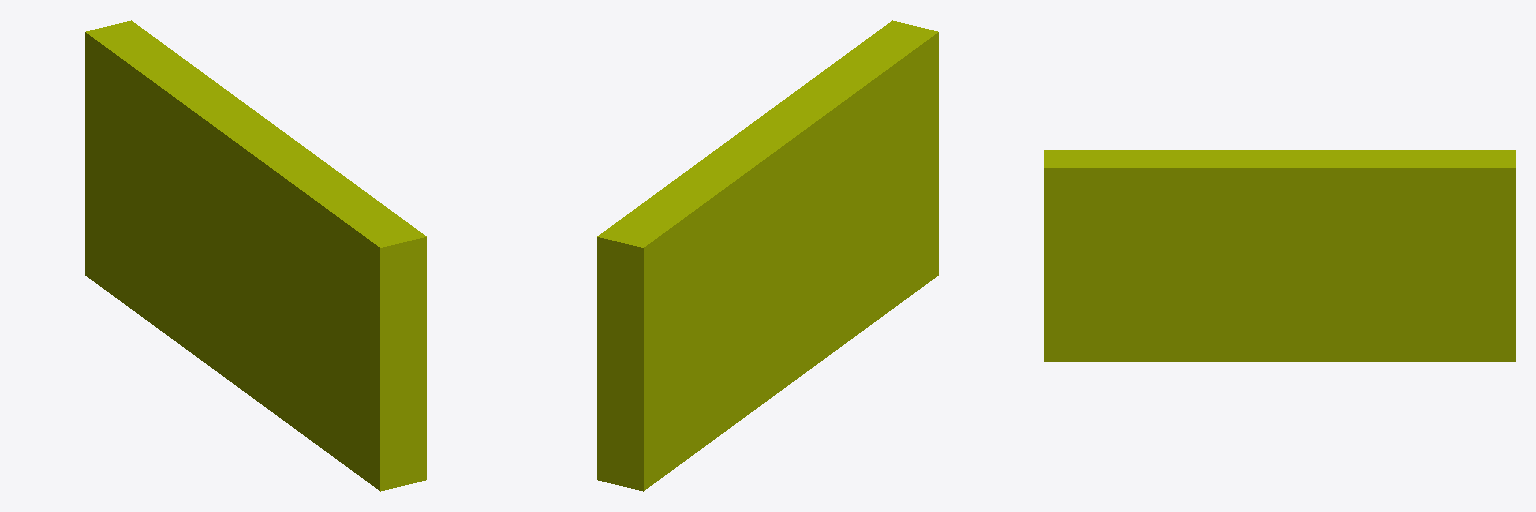
robot.urdf — side_boundaries:
<?xml version="1.0"?>
<!-- created with Phobos 1.0.1 "Capricious Choutengan" -->
  <robot name="side_boundaries">

    <link name="side_wall">
      <inertial>
        <contact>
          <lateral_friction value="1"/>
        </contact>
        <origin xyz="0 0 0" rpy="0 0 0"/>
        <mass value="0.001"/>
        <inertia ixx="0.001" ixy="0" ixz="0" iyy="0.001" iyz="0" izz="0.001"/>
      </inertial>
      <visual name="Cube">
        <origin xyz="0 0 0" rpy="0 0 0"/>
        <geometry>
          <box size="0.1 1.1 0.5"/>
        </geometry>
        <material name="blue"/>
      </visual>
      <collision>
        <origin rpy="0 0 0" xyz="0 0 0"/>
        <geometry>
          <box size="0.1 1.1 0.5"/>
        </geometry>
      </collision>
    </link>

    <material name="blue">
      <color rgba="0.68 0.74 0.04 1.0"/>
    </material>

  </robot>

--- Render facts (derived) ---
The picture shows the robot from 3 angles, left to right: view 1: azimuth 30°, elevation 25°; view 2: azimuth 150°, elevation 25°; view 3: azimuth 270°, elevation 25°; orthographic projection.
Model side_boundaries with 1 links and 0 joints (none), rooted at side_wall, posed all joints at 0.
Visible links, largest first — view 1: side_wall; view 2: side_wall; view 3: side_wall.
Link boxes in pixels (<box>): side_wall: <box>85,20,426,491</box>; side_wall: <box>597,20,938,491</box>; side_wall: <box>1044,150,1515,361</box>.
Size in the robot's own frame: 0.1 by 1.1 by 0.5 metres.
Geometry: primitives only (box / cylinder / sphere), no mesh files.